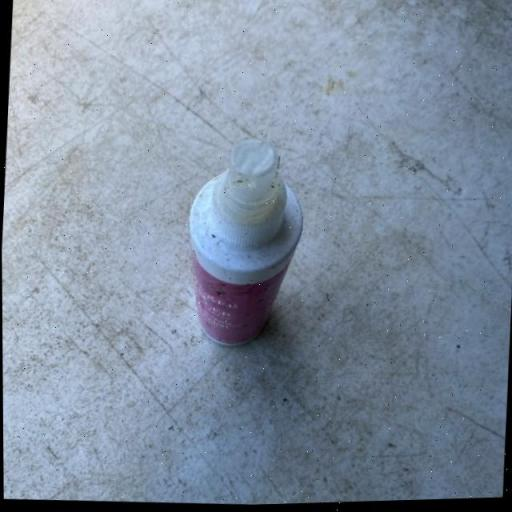plastic: (181, 134, 308, 352)
